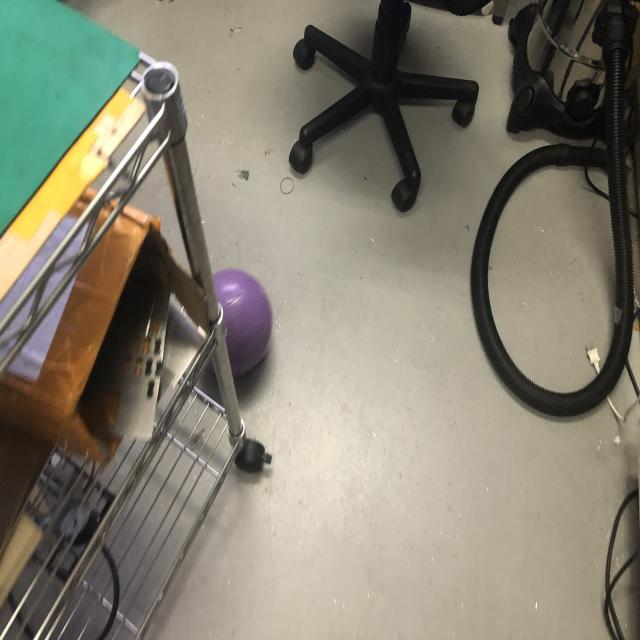purple_ball: (198, 268, 271, 372)
